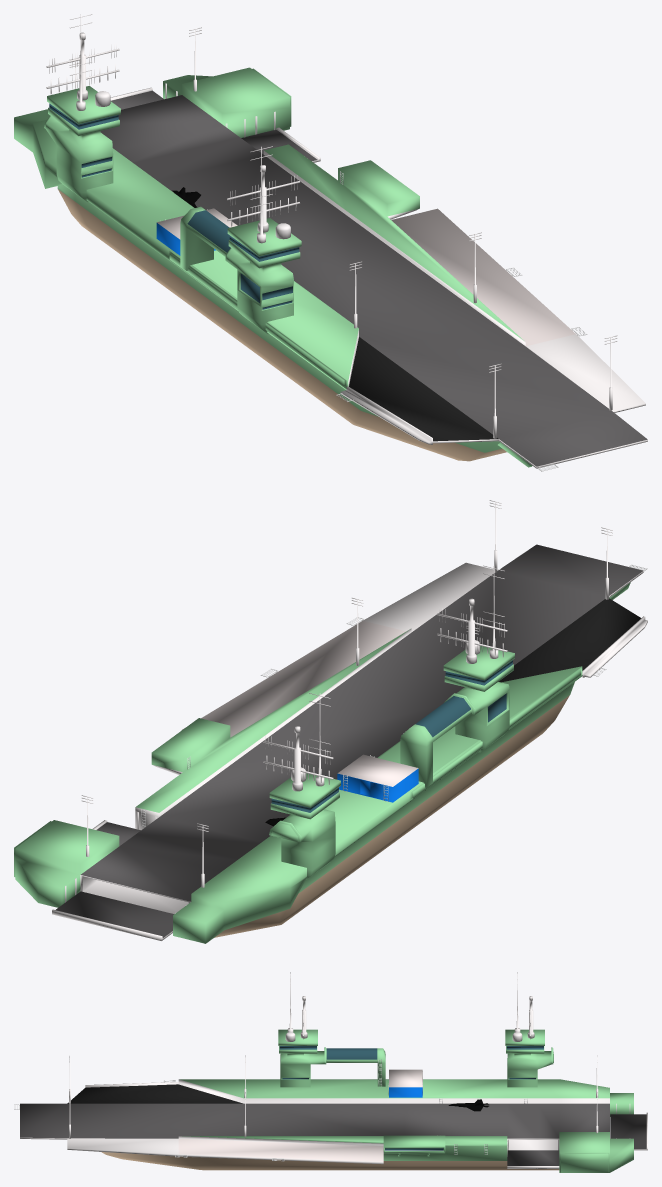
The model's file is Aircraft-Carrier.glb.
The picture shows the model from 3 angles, top to bottom: view 1: azimuth 30°, elevation 25°; view 2: azimuth 150°, elevation 25°; view 3: azimuth 270°, elevation 25°; orthographic projection. The views are drawn at different scales.
Visible parts, largest first — view 1: Main; view 2: Main; view 3: Main.
Part boxes in pixels (x1,y1,x2,y2): Main: (14, 14, 647, 468); Main: (14, 500, 647, 943); Main: (20, 972, 647, 1172).
Bounding box in the file's own units: 17.82 × 14.44 × 56.82.
